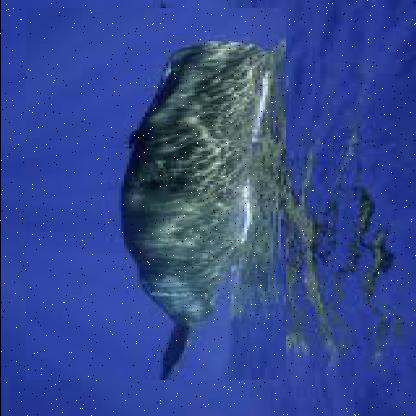sperm_whale: (24, 8, 285, 381)
